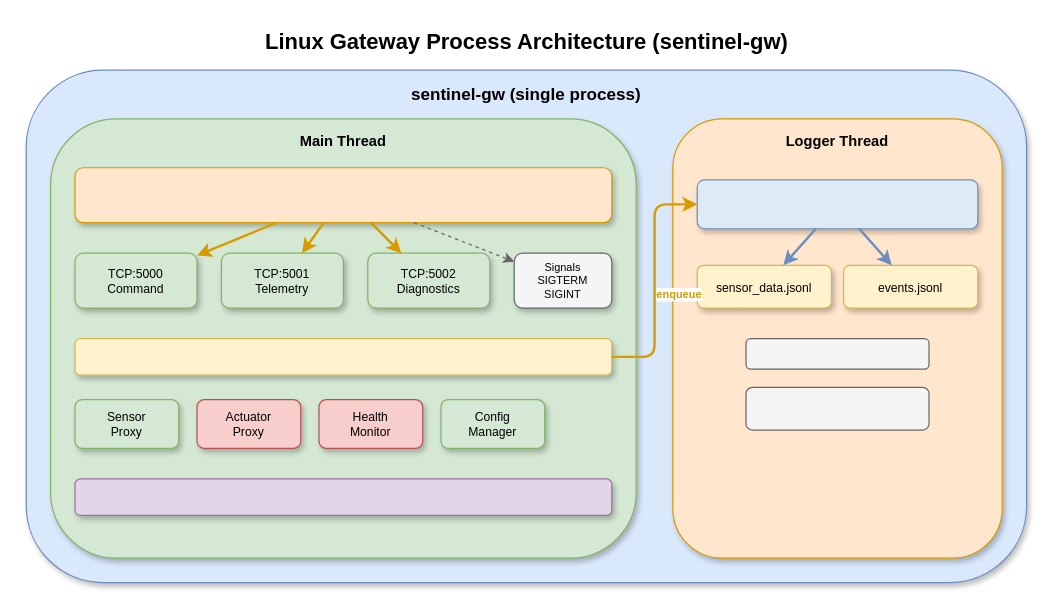
The diagram is 1055 pixels wide and 612 high, and some of its shapes have lost their labels. Here are the shapes that lost their labels. From the top down, the centre of each, then its label:
point 344,196: epoll Event Loop (main dispatcher)
point 838,205: Ring Buffer (lock-free dequeue)
point 344,358: Message Dispatch (by protobuf type)
point 837,353: fsync every 5s
point 837,408: Log Rotation 100 MB max, 10 files
point 344,498: protobuf-c (encode / decode)
